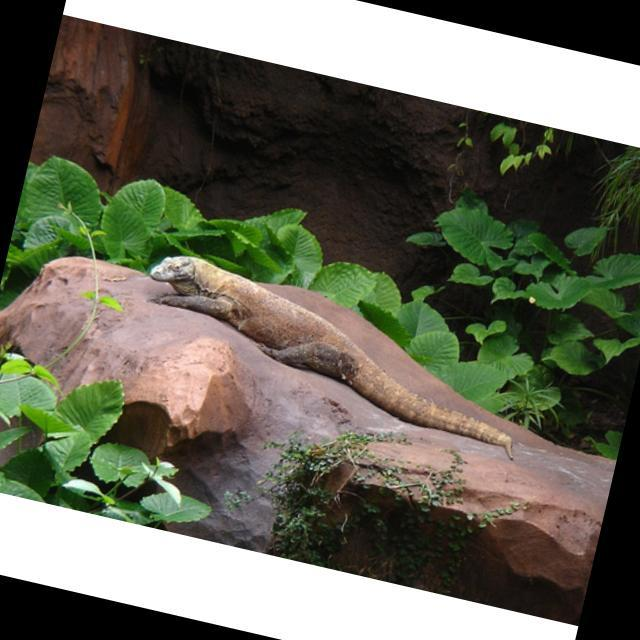KomodoDragon: (127, 243, 547, 467)
